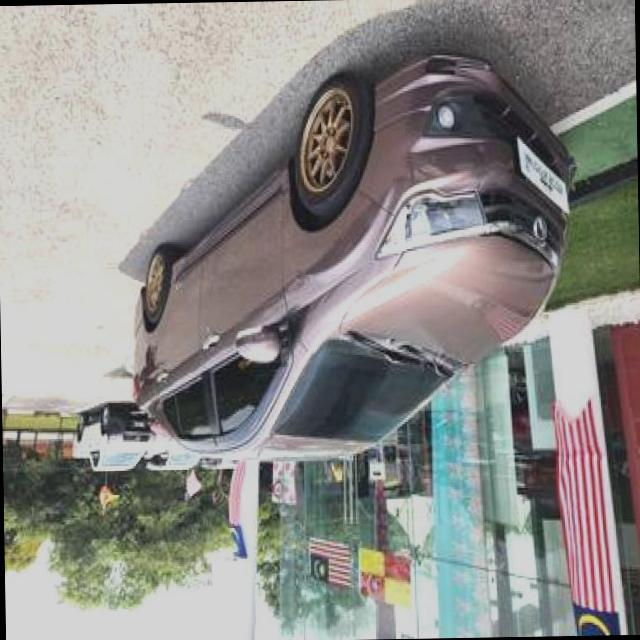PeroduaBezza: (124, 51, 580, 467)
